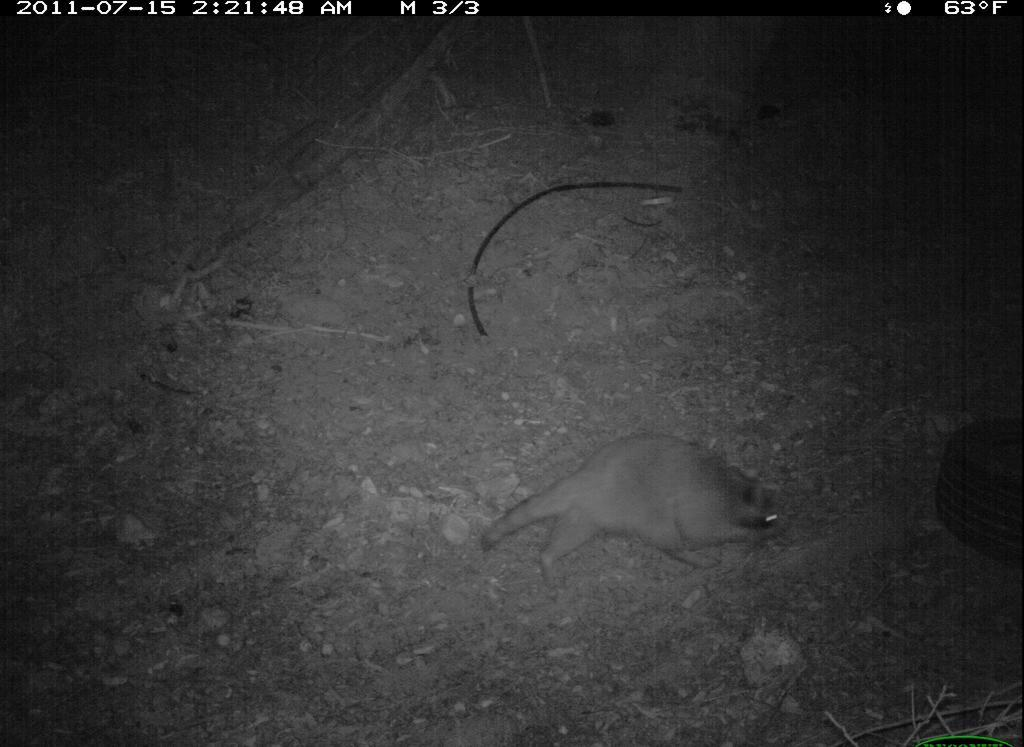raccoon: (478, 425, 811, 609)
